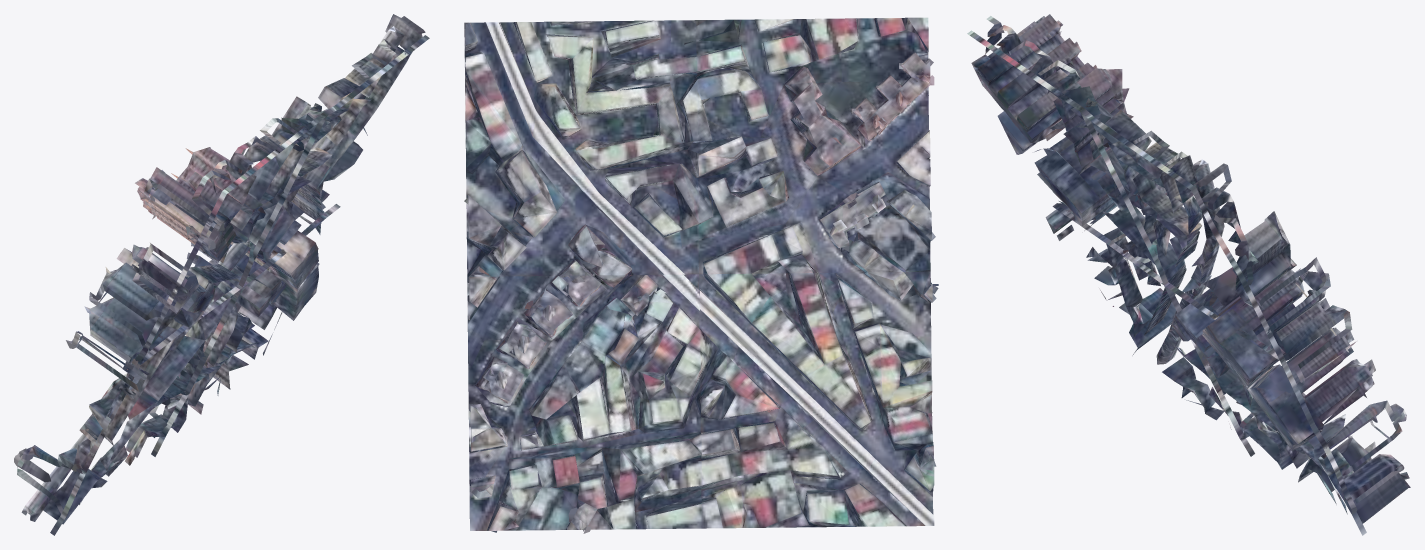
3 views of the same model, side by side, from view 1: azimuth 30°, elevation 25°; view 2: azimuth 150°, elevation 25°; view 3: azimuth 270°, elevation 25° (orthographic). The views are drawn at different scales.
Bounding box in the file's own units: 320 × 288 × 285.
Materials: 2 (2 with a texture image).
